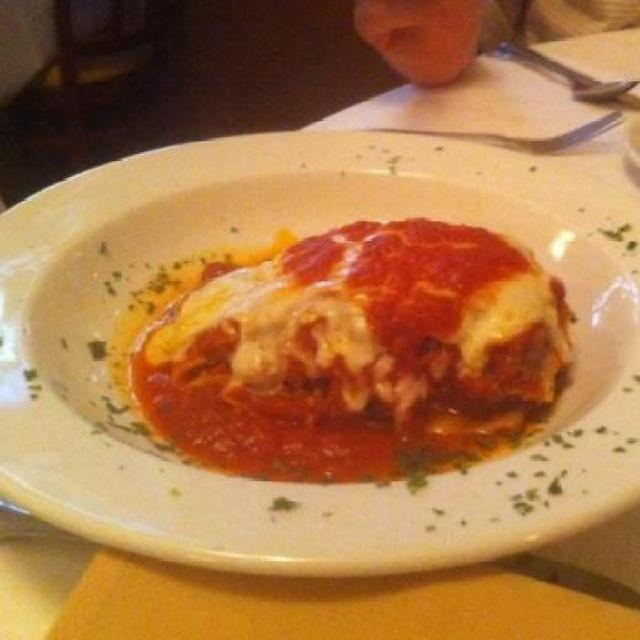Lasagna: (160, 206, 560, 482)
